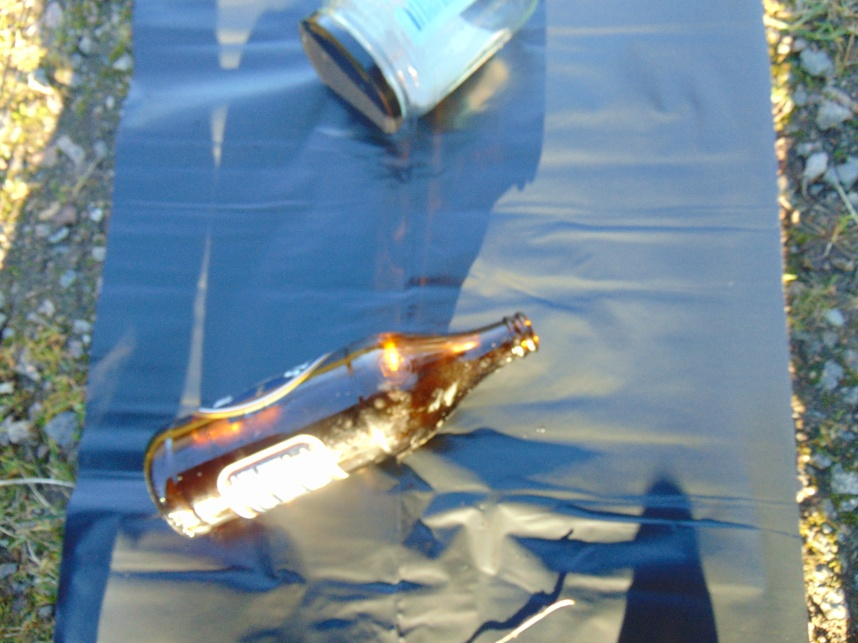glass_bottle: (143, 312, 548, 547), (302, 1, 546, 126)
